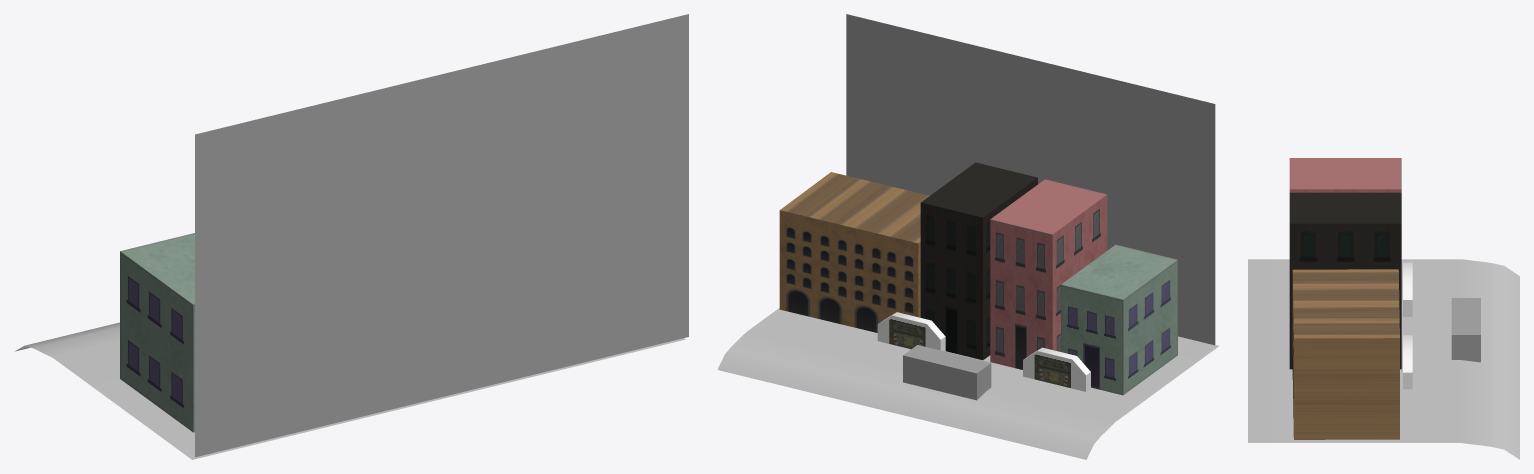
The model's file is modulo-dois.fbx.
The picture shows the model from 3 angles, left to right: view 1: azimuth 30°, elevation 25°; view 2: azimuth 150°, elevation 25°; view 3: azimuth 270°, elevation 25°; orthographic projection. The views are drawn at different scales.
Parts seen in each view (by area): view 1: pasted__pasted__pPlane2, pasted__pasted__pCube4, pasted__pasted__pasted__pPlane2; view 2: pasted__pasted__pPlane2, pasted__pasted__pasted__pPlane2, pasted__pasted__pasted__pCube4, pasted__pasted__pCube4 (×2), pasted__pasted__pasted__pasted__pCube4, pasted__pasted__pasted__pasted__pasted__pCube4, pCube1, pasted__pCube4; view 3: pasted__pasted__pasted__pPlane2, pasted__pasted__pasted__pCube4, pasted__pasted__pasted__pasted__pasted__pCube4, pasted__pasted__pasted__pasted__pCube4, pCube1, pasted__pCube4, pasted__pasted__pCube4.
Part boxes in pixels (x1,y1,x2,y2): pasted__pasted__pPlane2: (195, 14, 688, 457); pasted__pasted__pCube4: (120, 233, 194, 432); pasted__pasted__pasted__pPlane2: (15, 322, 685, 459); pasted__pasted__pPlane2: (846, 14, 1215, 345); pasted__pasted__pasted__pPlane2: (717, 308, 1219, 459); pasted__pasted__pasted__pCube4: (779, 172, 929, 332); pasted__pasted__pCube4 (×2): (877, 244, 1177, 395); pasted__pasted__pasted__pasted__pCube4: (990, 179, 1107, 369); pasted__pasted__pasted__pasted__pasted__pCube4: (920, 162, 1037, 360); pCube1: (903, 345, 991, 400); pasted__pCube4: (1023, 347, 1090, 391); pasted__pasted__pasted__pPlane2: (1248, 259, 1519, 459); pasted__pasted__pasted__pCube4: (1292, 269, 1399, 439); pasted__pasted__pasted__pasted__pasted__pCube4: (1289, 192, 1401, 369); pasted__pasted__pasted__pasted__pCube4: (1289, 158, 1401, 192); pCube1: (1451, 298, 1480, 362); pasted__pCube4: (1403, 262, 1412, 316); pasted__pasted__pCube4: (1403, 335, 1412, 389).
Size of the model in its own units: 161 by 107 by 100.
